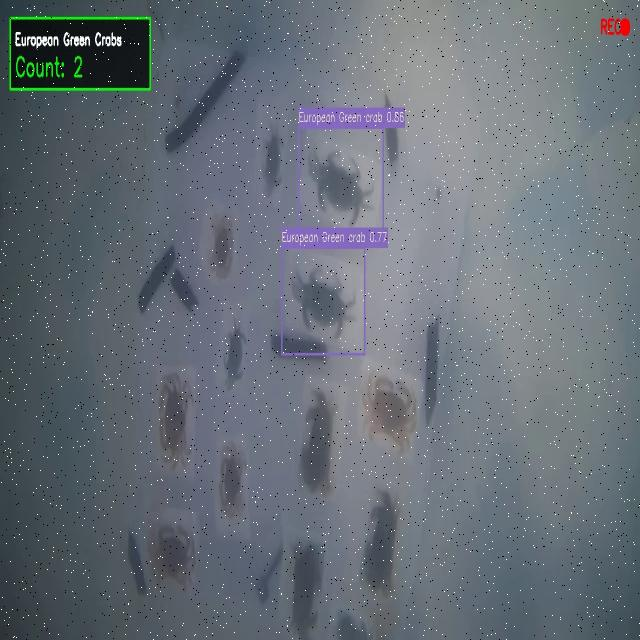European_Green_Crab: (301, 132, 385, 238), (287, 261, 355, 345), (257, 120, 288, 199), (219, 319, 247, 390)
